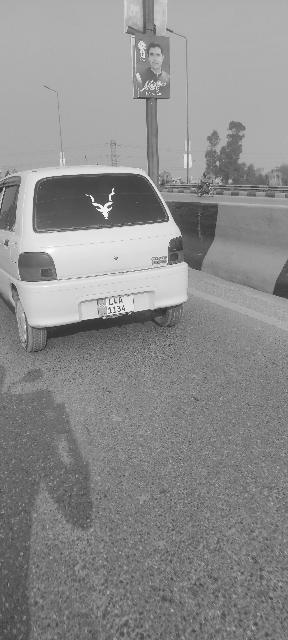Number: (107, 296, 128, 315)
